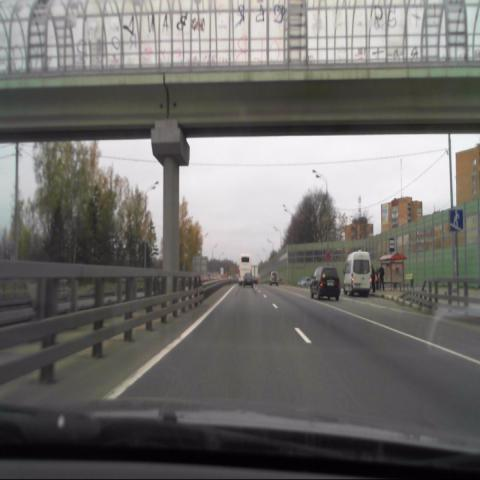6_7: (450, 209, 463, 232)
